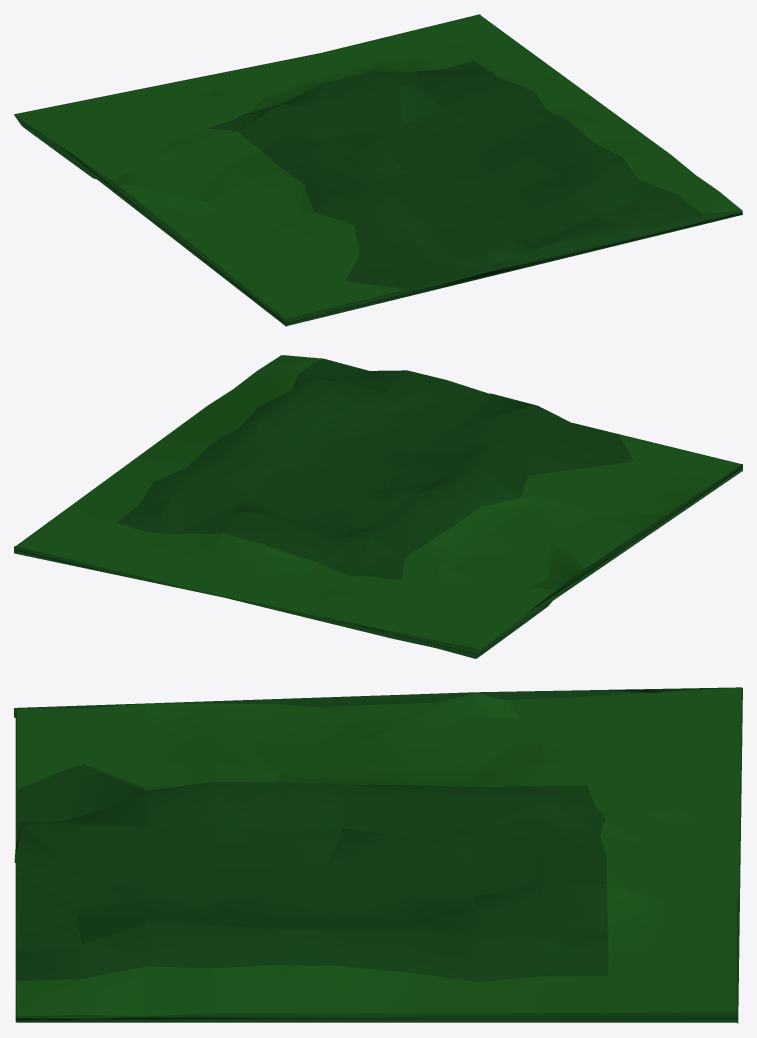
File: land7.fbx
The picture shows the model from 3 angles, top to bottom: view 1: azimuth 30°, elevation 25°; view 2: azimuth 150°, elevation 25°; view 3: azimuth 270°, elevation 25°; orthographic projection. The views are drawn at different scales.
Visible parts, largest first — view 1: land7; view 2: land7; view 3: land7.
Boxes of the visible parts, <box> form: land7: <box>14,14,742,326</box>; land7: <box>14,355,742,658</box>; land7: <box>14,687,742,1023</box>.
Size of the model in its own units: 10164 by 785 by 10088.
